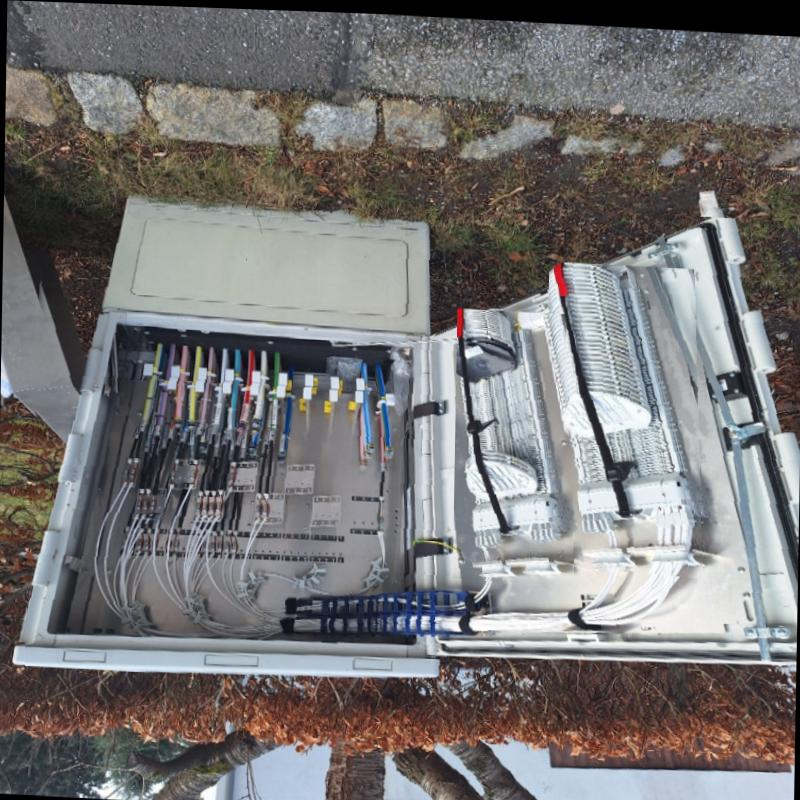NT-Gehause: (24, 197, 799, 671)
Spleiskassetten: (547, 257, 702, 564), (455, 304, 574, 576)
